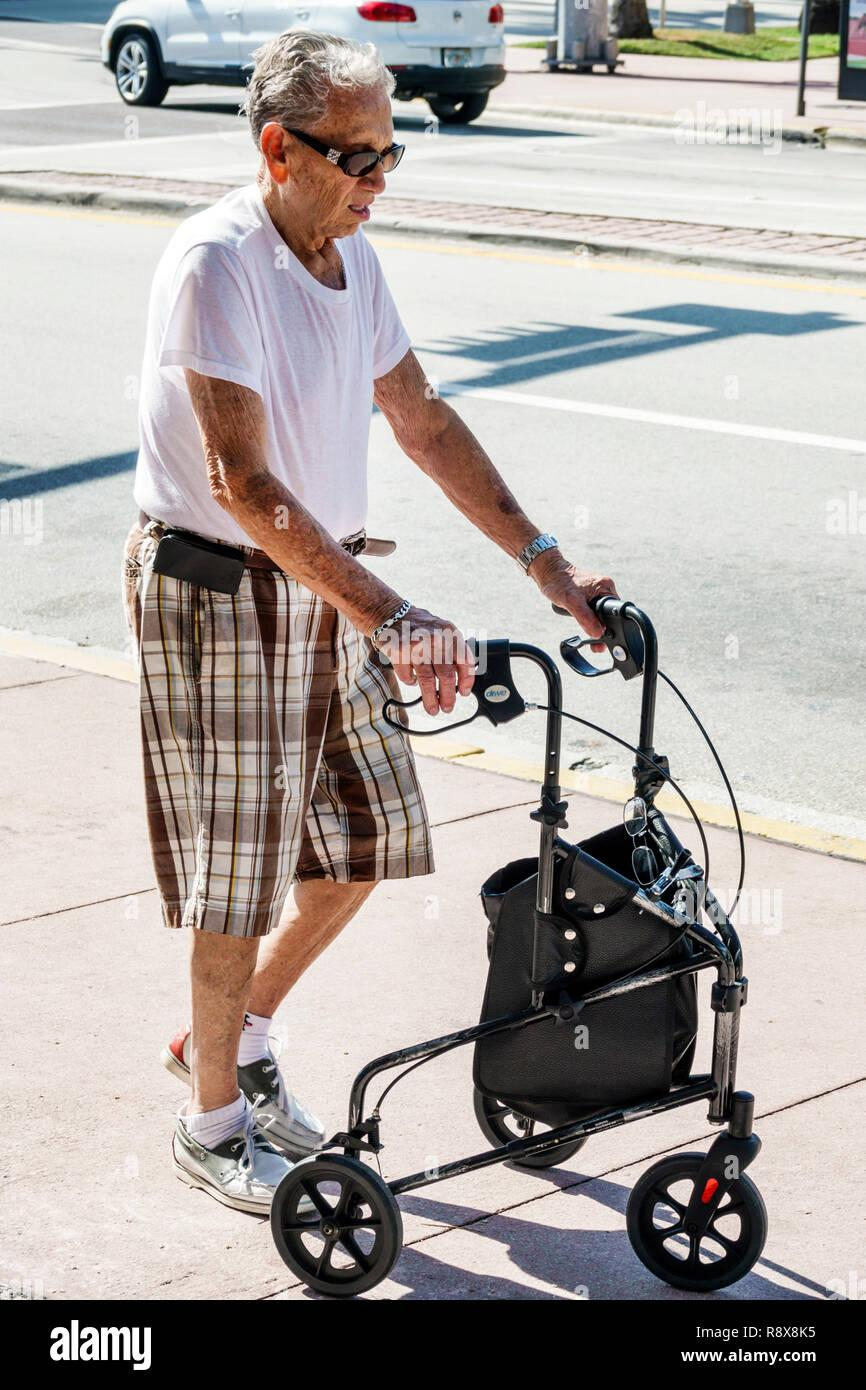walking_frame: (121, 30, 769, 1298)
